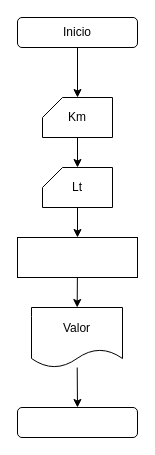
Image size: 155x455. Some labels were removed from this diagram. The centre of each missing label's shape, as x and y in pixels:
Fim: pixel 77 422
Valor <- Km/Lt: pixel 77 257
